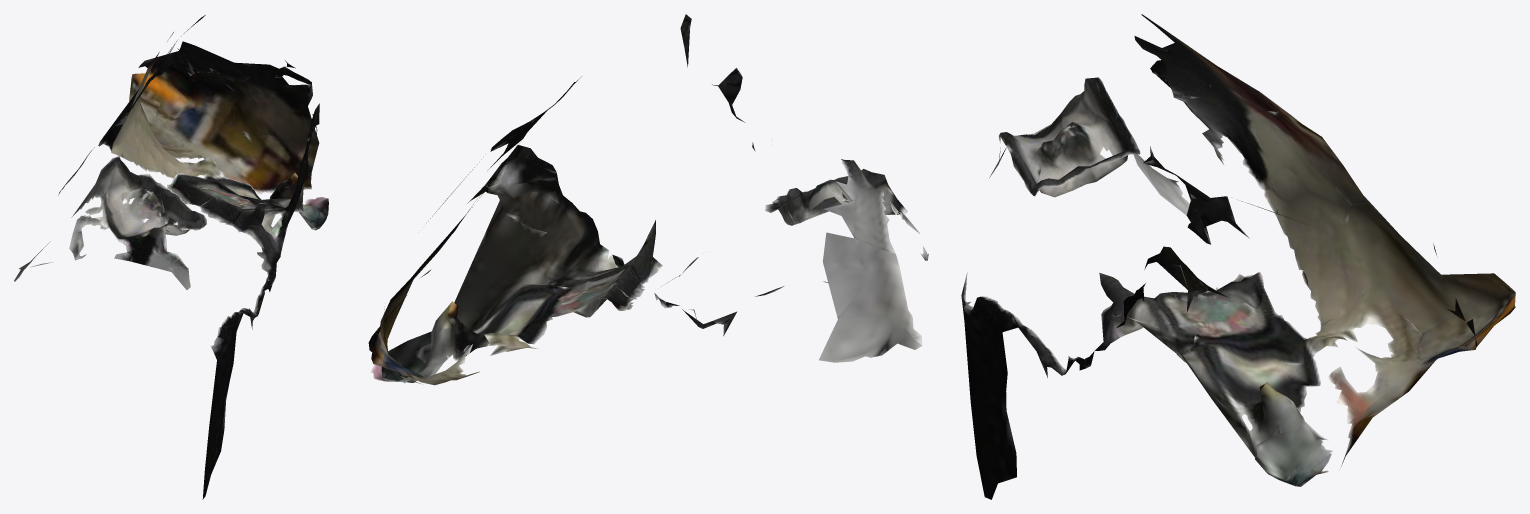
The model's file is hall.glb.
The picture shows the model from 3 angles, left to right: view 1: azimuth 30°, elevation 25°; view 2: azimuth 150°, elevation 25°; view 3: azimuth 270°, elevation 25°; orthographic projection. The views are drawn at different scales.
Bounding box in the file's own units: 1.43 × 1.54 × 1.47.
1 material, 1 textured.
